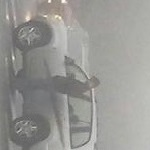person: (13, 74, 100, 97)
